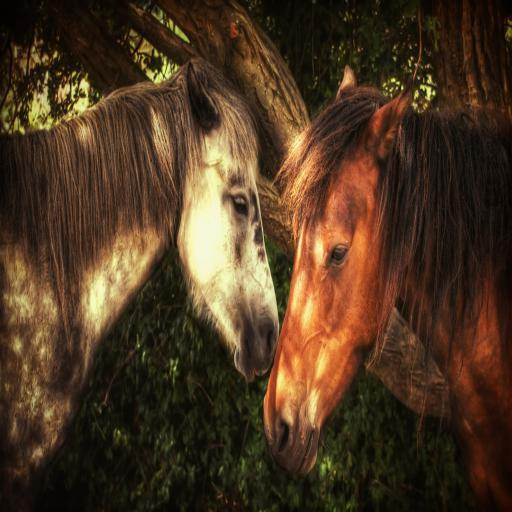horse: (0, 53, 281, 498), (260, 74, 512, 512)
